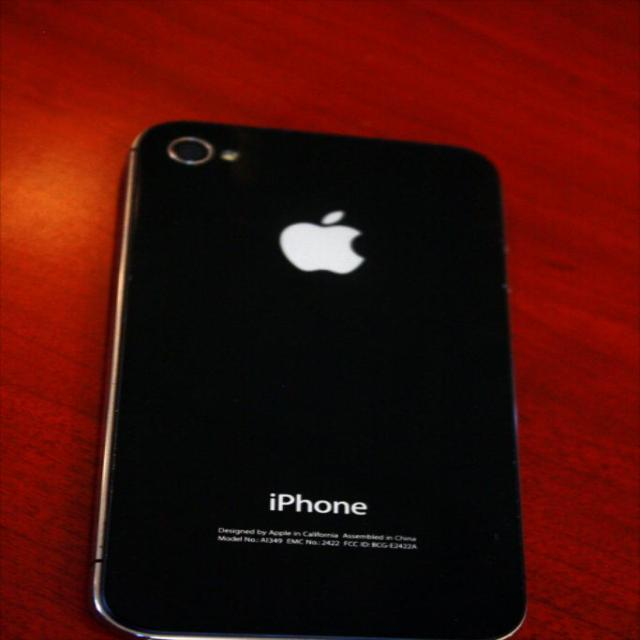Mobile-phone: (90, 118, 508, 639)
